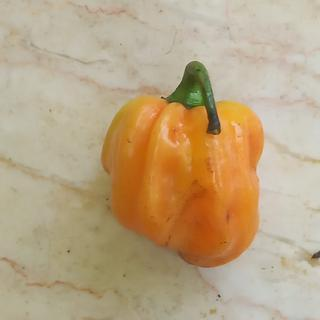Grade-B: (93, 89, 271, 270)
